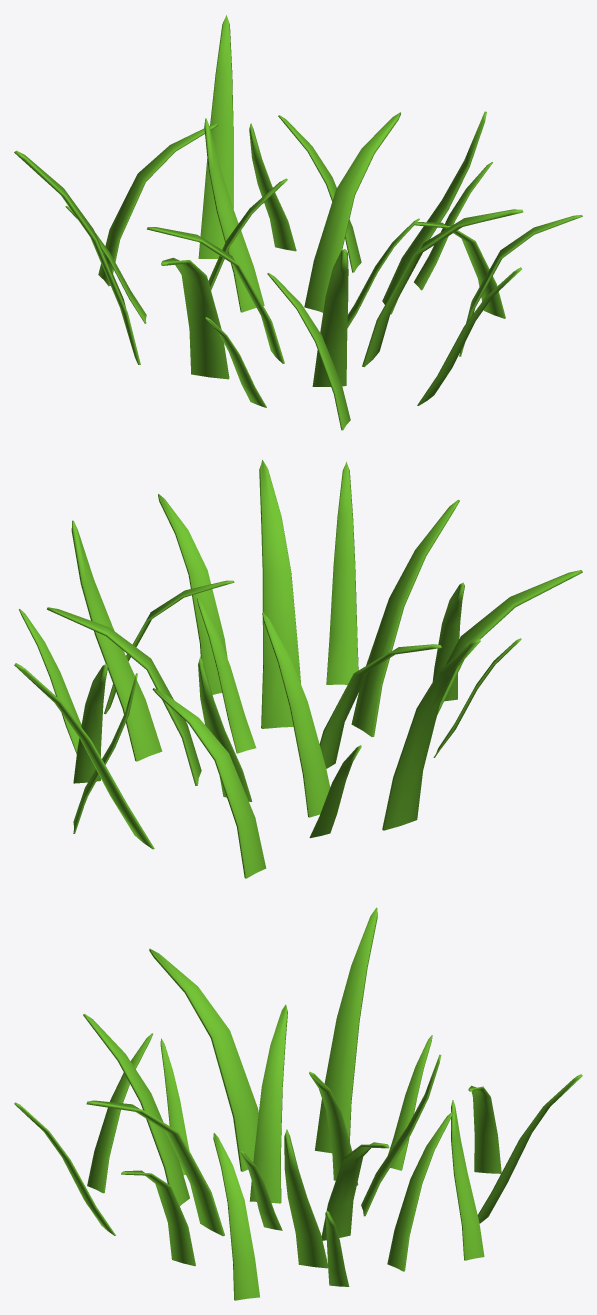
The model's file is GrassTerrain.fbx.
The picture shows the model from 3 angles, top to bottom: view 1: azimuth 30°, elevation 25°; view 2: azimuth 150°, elevation 25°; view 3: azimuth 270°, elevation 25°; orthographic projection. The views are drawn at different scales.
Visible parts, largest first — view 1: Grass; view 2: Grass; view 3: Grass.
Part boxes in pixels (x1,y1,x2,y2): Grass: [14, 15, 582, 430]; Grass: [14, 460, 582, 878]; Grass: [14, 907, 582, 1300].
Size of the model in its own units: 48.11 by 21.9 by 55.44.
